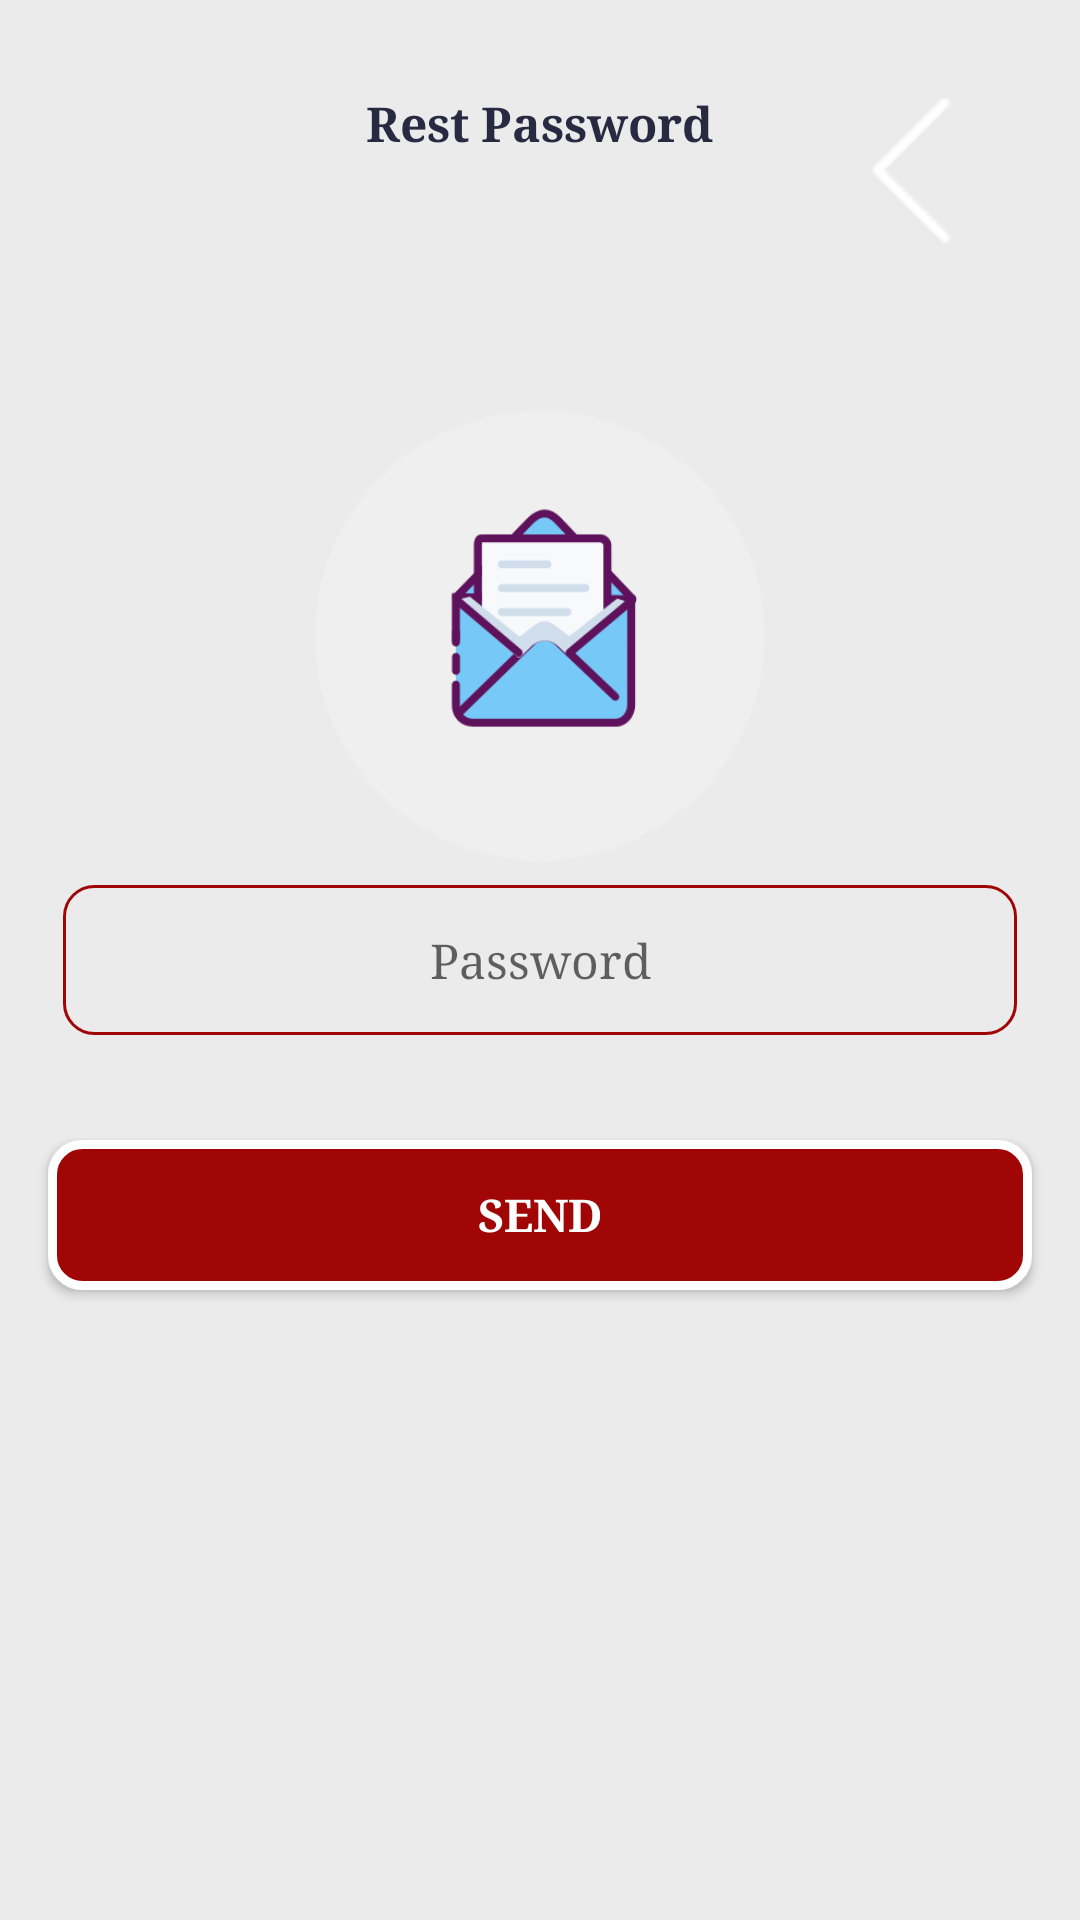

Where to tap for icons on this 1080w x 1920h app screen, as [x,y]:
mail circle: [544,618]
